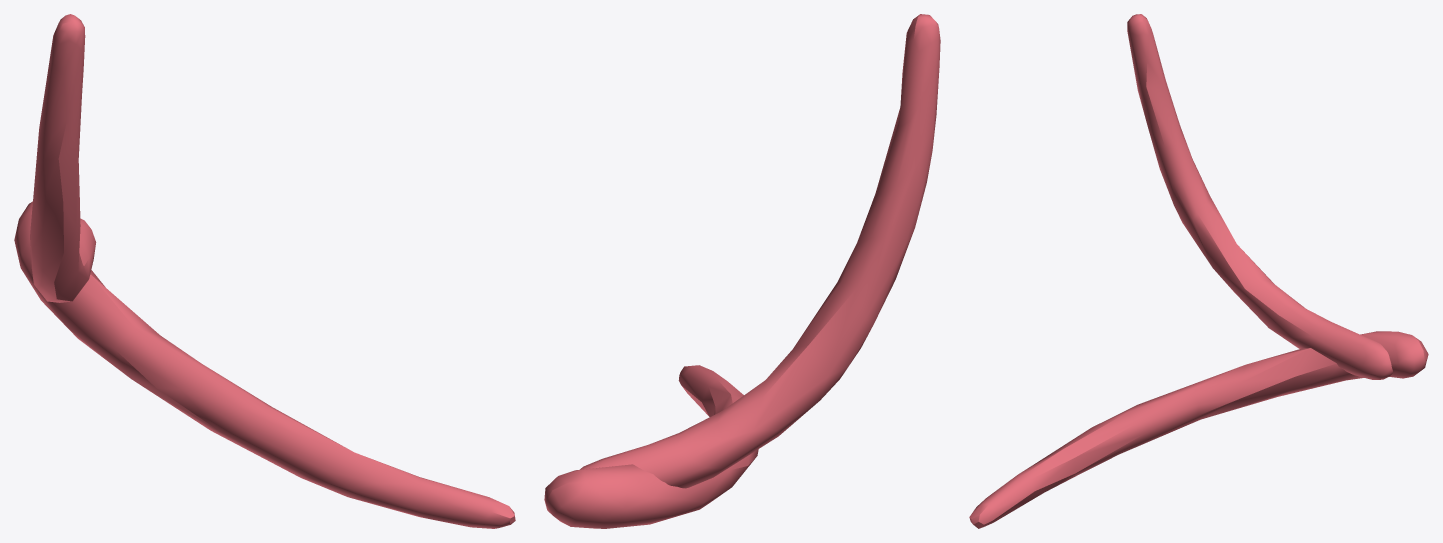
File: fma68926_cx193.glb
3 views of the same model, side by side, from view 1: azimuth 30°, elevation 25°; view 2: azimuth 150°, elevation 25°; view 3: azimuth 270°, elevation 25° (orthographic). The views are drawn at different scales.
Visible parts, largest first — view 1: FMA68926_CX193; view 2: FMA68926_CX193; view 3: FMA68926_CX193.
Part boxes in pixels (left/top/right/bottom): FMA68926_CX193: left=14, top=14, right=515, bottom=528; FMA68926_CX193: left=544, top=14, right=940, bottom=528; FMA68926_CX193: left=969, top=14, right=1428, bottom=528.
Size of the model in its own units: 0.0241 by 0.0334 by 0.0354.
